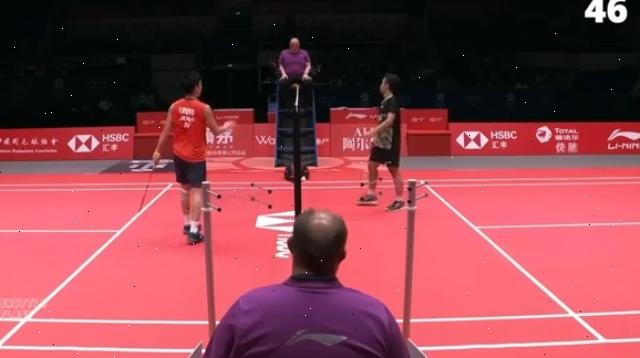Shuttlecock: (300, 173, 308, 183)
